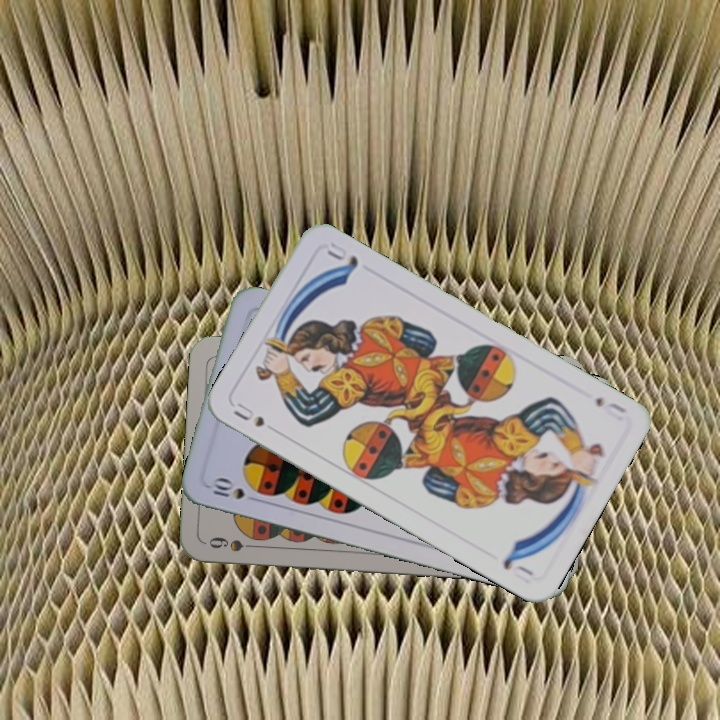S10: (205, 475, 248, 502)
S9: (204, 533, 263, 554)
SU: (229, 398, 268, 430), (591, 393, 629, 424)
